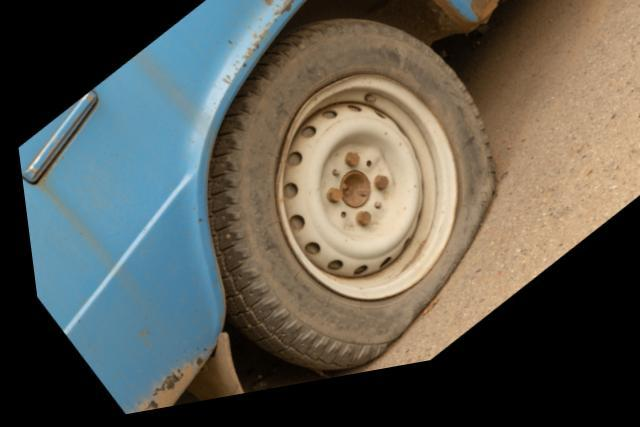tire flat: (198, 31, 489, 380)
